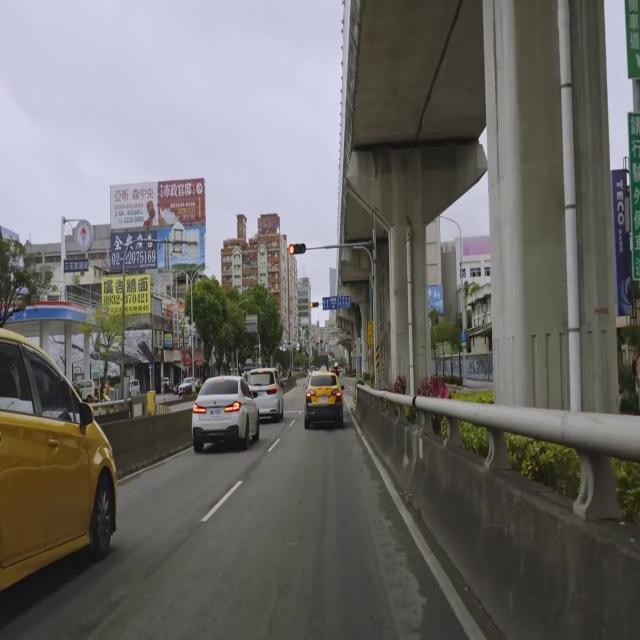red light: (289, 243, 306, 254), (309, 302, 319, 308)
